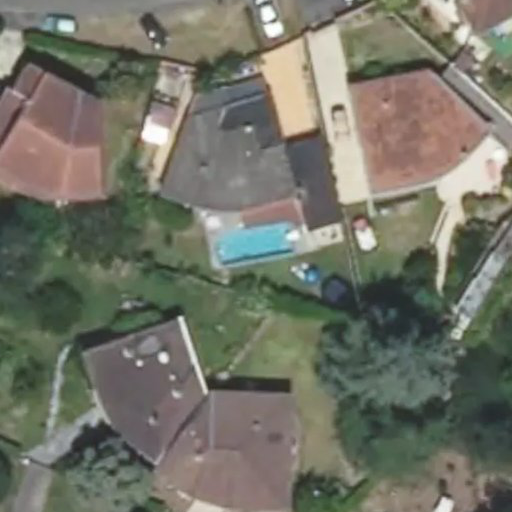pool: (217, 232, 294, 251)
